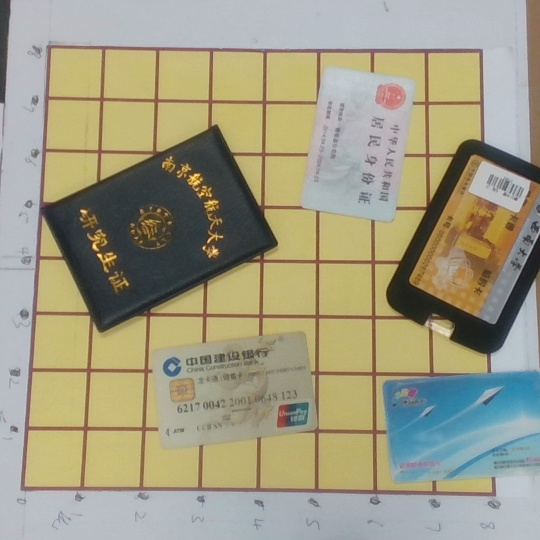card: (149, 329, 319, 448), (302, 64, 416, 229), (381, 371, 540, 484)
wallet: (37, 119, 278, 334), (387, 136, 540, 357)
